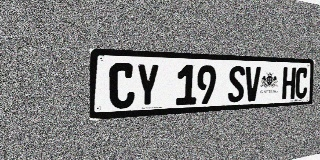1: (176, 64, 197, 105)
9: (197, 65, 216, 104)
C: (109, 63, 135, 109), (295, 67, 308, 99)
H: (282, 67, 296, 99)
S: (228, 66, 245, 103)
V: (244, 66, 261, 102)
Y: (135, 63, 160, 108)
